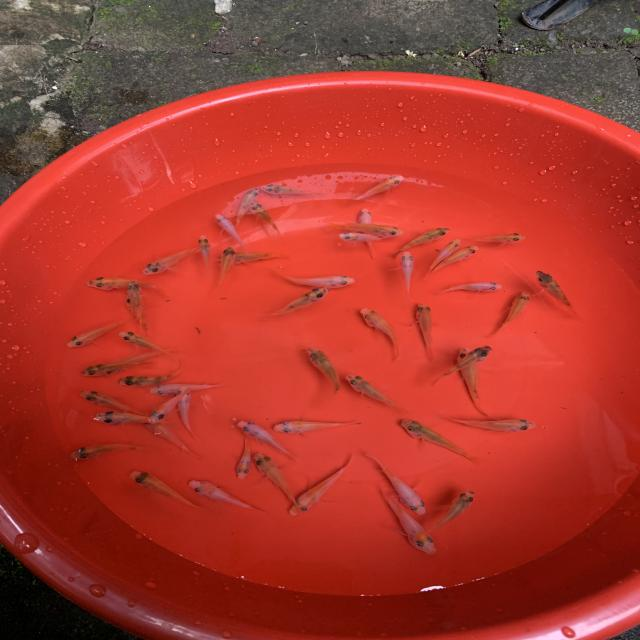nila: (373, 483, 443, 558), (394, 414, 484, 468), (360, 450, 431, 517), (284, 454, 353, 516), (245, 448, 306, 513), (343, 364, 413, 420), (120, 467, 203, 513), (182, 476, 276, 514), (452, 341, 494, 424), (422, 484, 482, 542), (424, 342, 494, 390), (227, 418, 302, 460), (361, 308, 417, 361), (78, 350, 164, 380), (383, 226, 454, 262), (530, 268, 583, 315), (76, 387, 150, 420), (117, 356, 187, 390), (441, 415, 549, 437), (149, 381, 197, 430), (264, 288, 330, 323), (274, 412, 366, 437), (488, 286, 532, 338), (82, 273, 176, 297), (302, 346, 342, 402), (406, 302, 443, 361), (120, 327, 182, 362), (273, 268, 370, 290), (210, 208, 256, 254), (173, 385, 209, 442), (426, 240, 481, 276), (139, 244, 197, 278), (349, 170, 410, 202), (433, 278, 512, 302), (88, 410, 181, 430), (245, 201, 289, 241), (421, 232, 460, 276), (393, 250, 422, 309), (62, 322, 114, 354), (66, 443, 142, 464), (210, 242, 239, 296), (147, 378, 225, 398), (359, 204, 386, 260), (123, 278, 151, 332), (209, 250, 297, 267), (122, 295, 154, 336), (336, 221, 412, 237), (234, 186, 262, 228), (258, 183, 331, 199), (236, 432, 256, 484), (462, 229, 526, 243), (332, 229, 386, 243), (195, 234, 214, 273)
